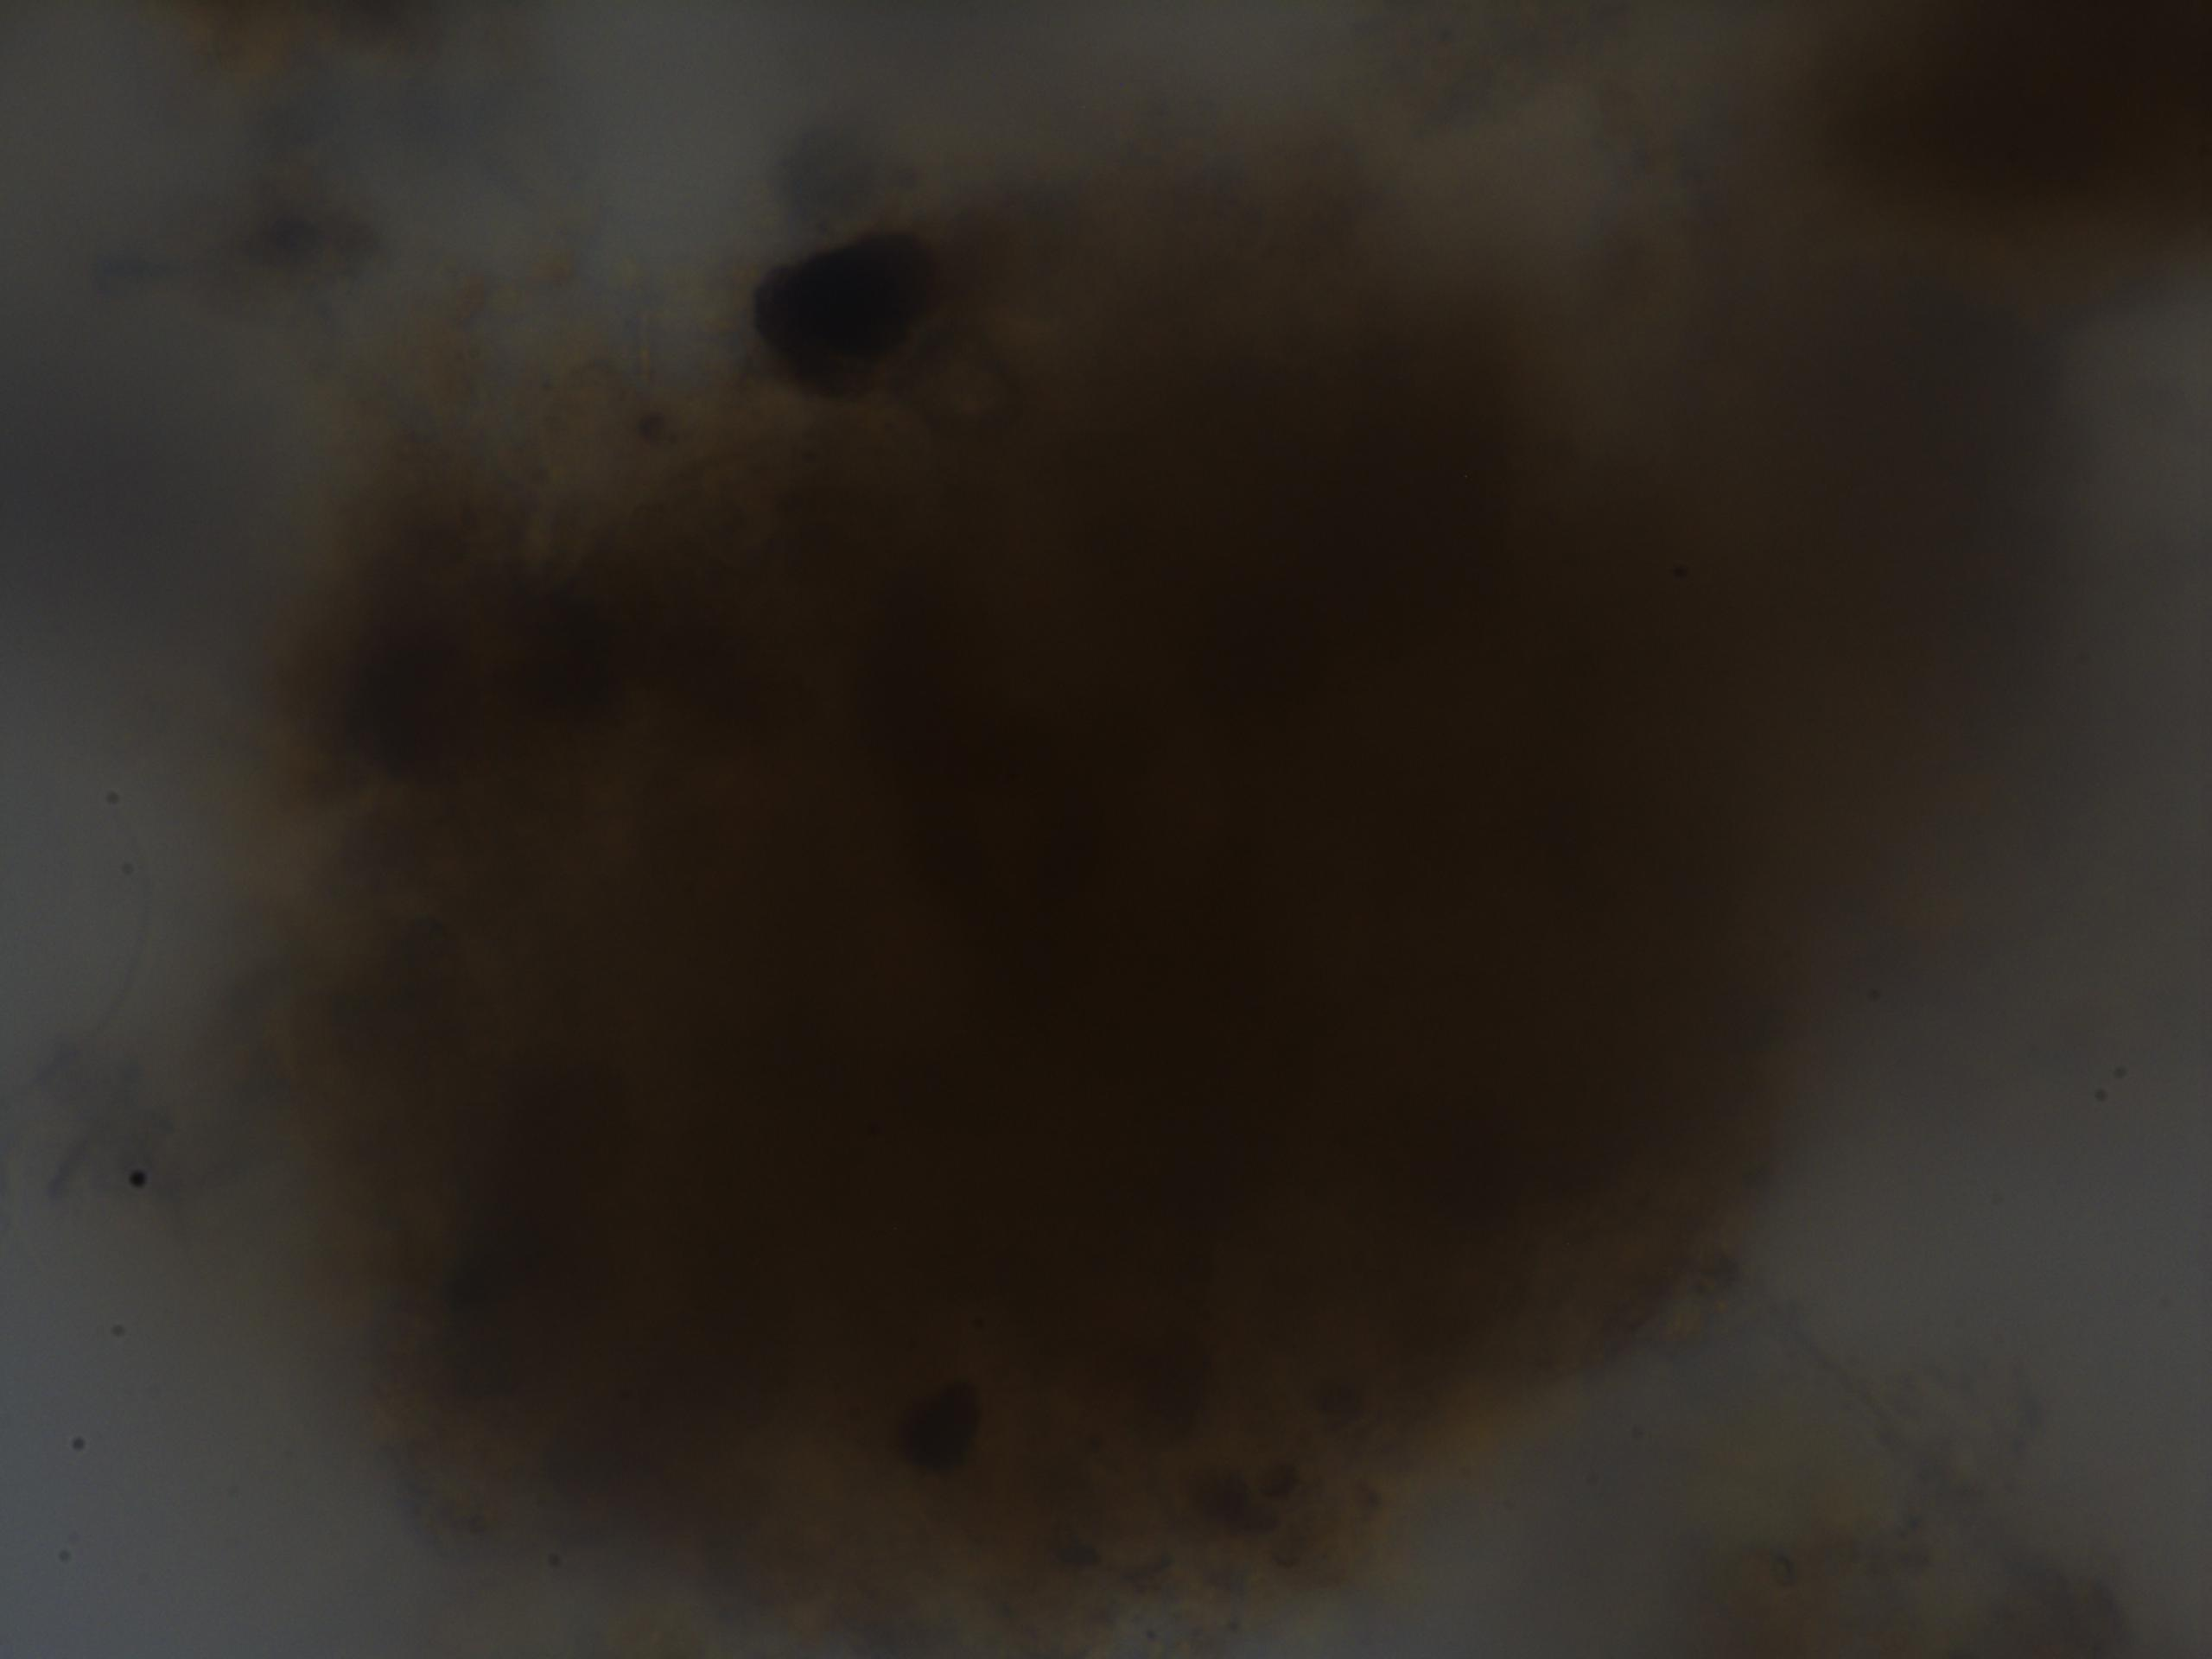spherical_floc: (284, 167, 1848, 1619)
